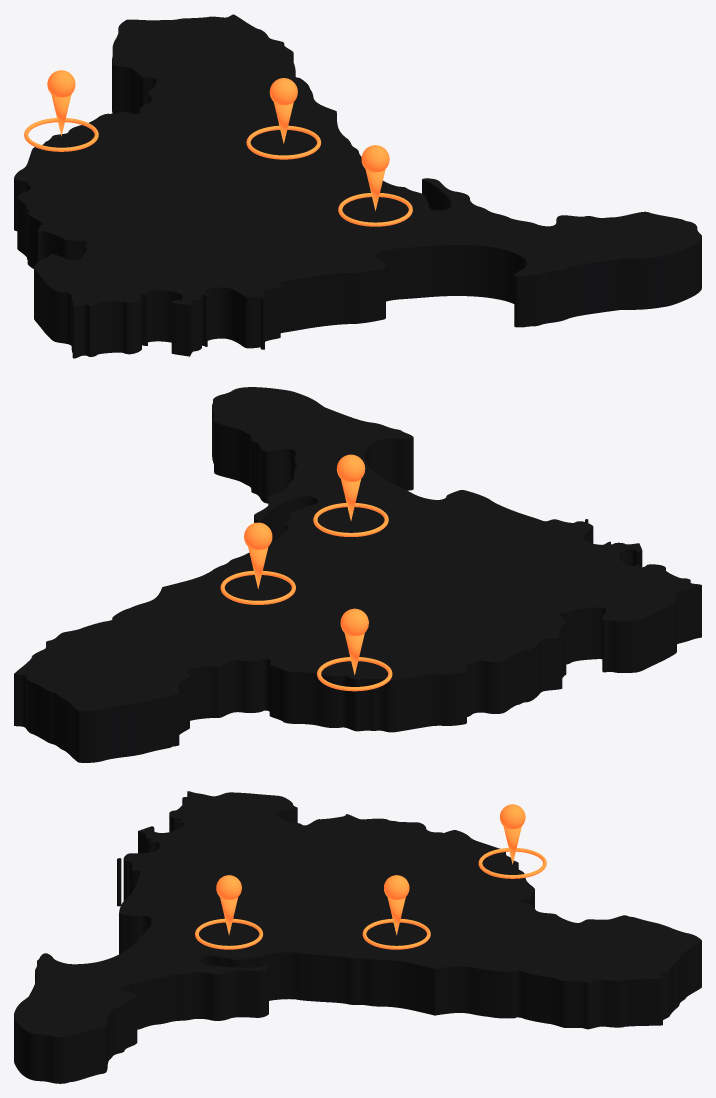
The model's file is banyuwangi_map.glb.
The picture shows the model from 3 angles, top to bottom: view 1: azimuth 30°, elevation 25°; view 2: azimuth 150°, elevation 25°; view 3: azimuth 270°, elevation 25°; orthographic projection. The views are drawn at different scales.
Visible parts, largest first — view 1: Banyuwangi_Map, Pin_Kopi, Pin_Anyaman, Pin_Batik; view 2: Banyuwangi_Map, Pin_Kopi, Pin_Batik, Pin_Anyaman; view 3: Banyuwangi_Map, Pin_Batik, Pin_Anyaman, Pin_Kopi.
Part boxes in pixels (x1=…): Banyuwangi_Map: x1=14, y1=14, x2=701, y2=358; Pin_Kopi: x1=24, y1=70, x2=98, y2=151; Pin_Anyaman: x1=338, y1=145, x2=412, y2=226; Pin_Batik: x1=246, y1=78, x2=321, y2=159; Banyuwangi_Map: x1=14, y1=387, x2=701, y2=762; Pin_Kopi: x1=317, y1=608, x2=392, y2=691; Pin_Batik: x1=220, y1=522, x2=295, y2=604; Pin_Anyaman: x1=313, y1=454, x2=388, y2=536; Banyuwangi_Map: x1=14, y1=791, x2=701, y2=1083; Pin_Batik: x1=362, y1=875, x2=430, y2=949; Pin_Anyaman: x1=195, y1=875, x2=263, y2=949; Pin_Kopi: x1=478, y1=804, x2=546, y2=878.
Bounding box in the file's own units: 0.0451 × 0.0091 × 0.0534.
